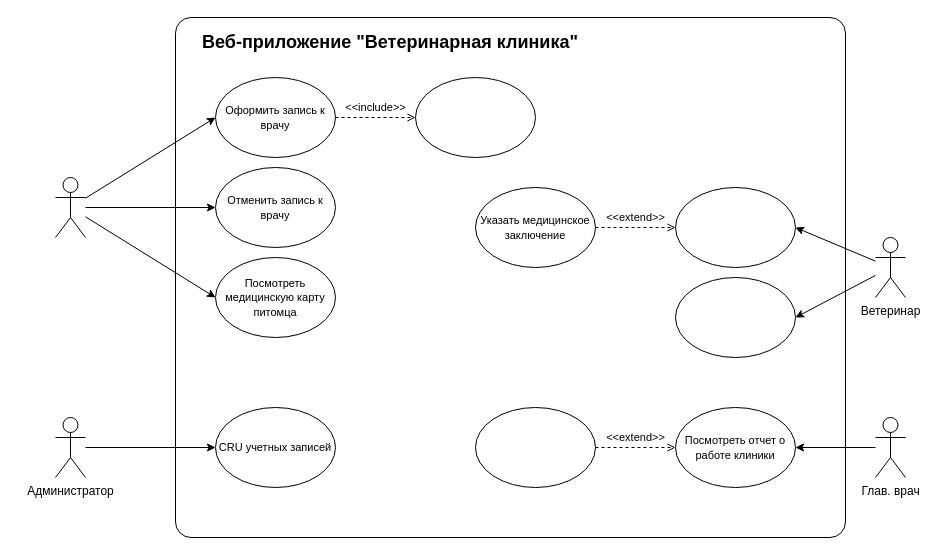
The diagram is 938 pixels wide and 555 high, and some of its shapes have lost their labels. The box of each missing label's shape, as (x1, y1, x2, y2) in pixels:
CRU медицинскую карту питомца: (674, 186, 796, 268)
Владелец питомца: (54, 176, 86, 238)
Выбрать конкретного специалиста: (414, 76, 536, 158)
Выбрать срез: (474, 406, 596, 488)
Посмотреть записи на прием: (674, 276, 796, 358)
